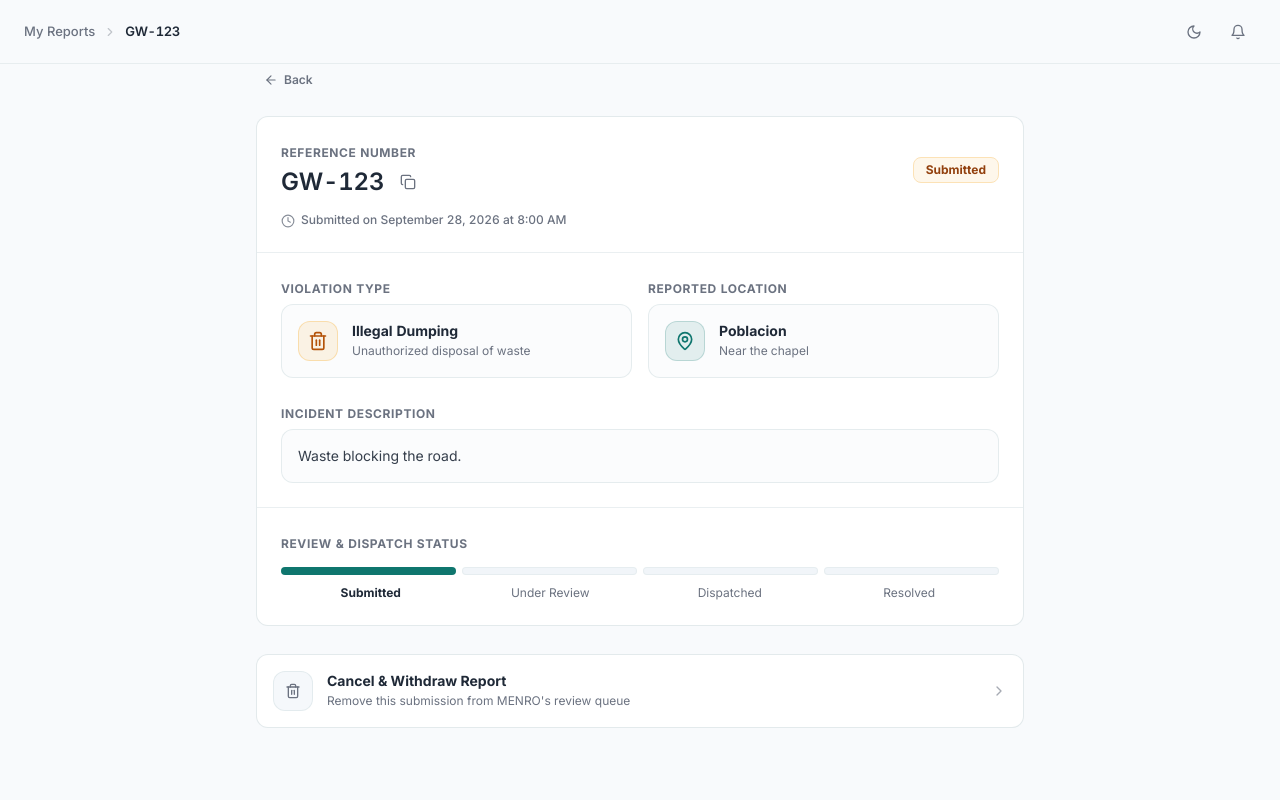
Test: opens the owned report from its focusable card without withdrawing it
Click the link with aria-label "Back to My Reports": {"x": 60, "y": 32} [24,22,95,41]
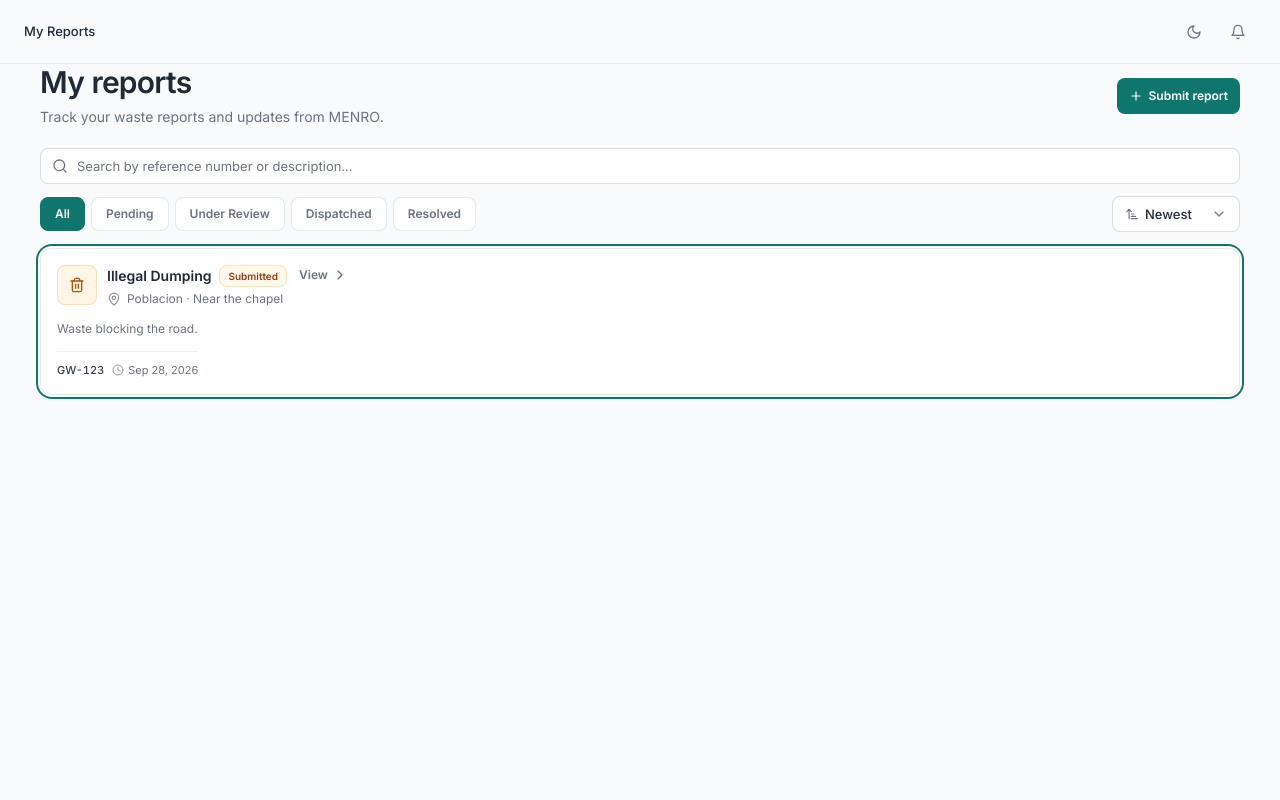
Now the heading "My reports" is shown, box [40,64,191,102]
Now the button with aria-label "View report GW-123" is shown
Click the button with aria-label "View report GW-123": {"x": 640, "y": 322} [40,248,1240,395]
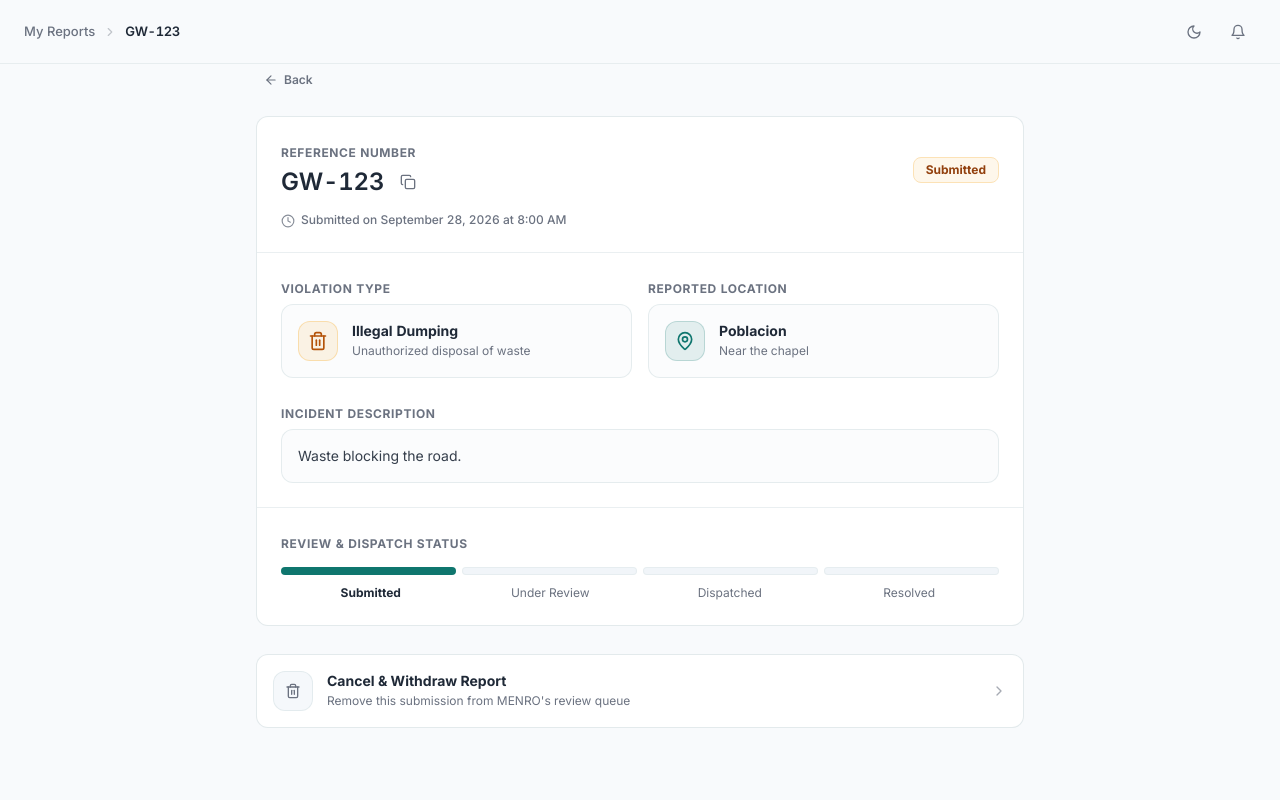
Now the text "GW-123" is shown, box [125,22,180,41]
Now the text "Cancel & Withdraw Report" is shown, box [327,672,506,689]
